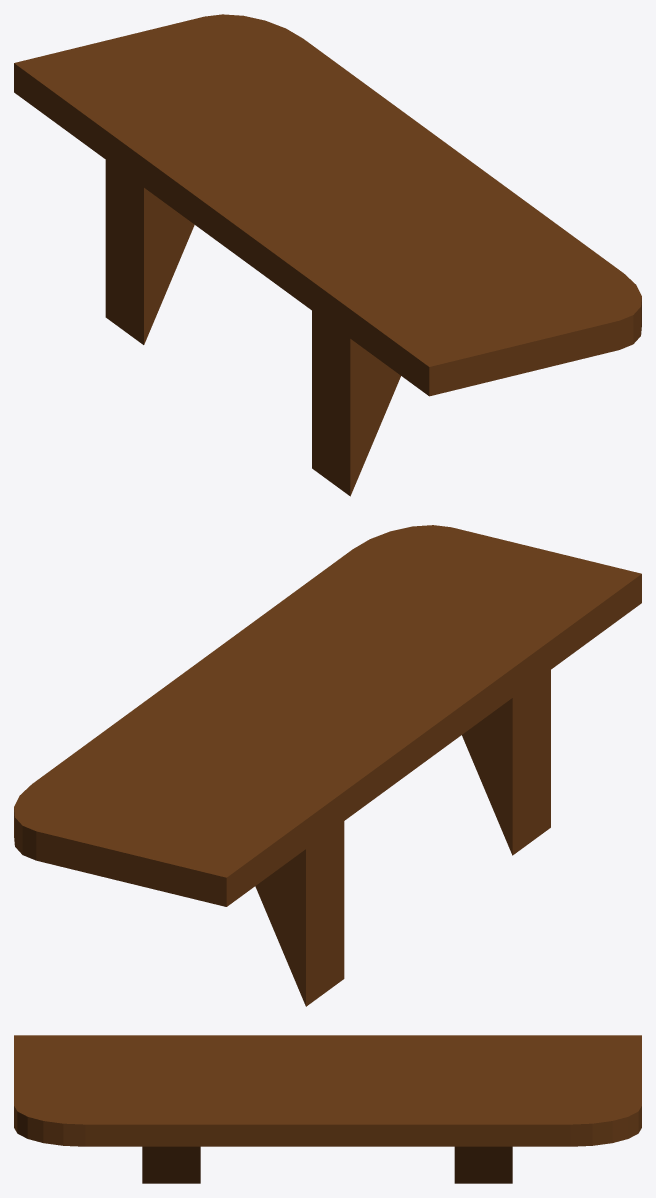
Rendered from Rack.fbx.
3 views of the same model, one above another, from view 1: azimuth 30°, elevation 25°; view 2: azimuth 150°, elevation 25°; view 3: azimuth 270°, elevation 25° (orthographic). The views are drawn at different scales.
Parts seen in each view (by area): view 1: Cube.001, Cube.002, Cube; view 2: Cube.001, Cube.002, Cube; view 3: Cube.001, Cube, Cube.002.
Boxes of the visible parts, box(x1,y1,x2,y2) form: Cube.001: box(14, 14, 641, 396); Cube.002: box(105, 160, 194, 344); Cube: box(312, 311, 400, 496); Cube.001: box(14, 525, 641, 906); Cube.002: box(255, 821, 344, 1006); Cube: box(462, 670, 550, 855); Cube.001: box(14, 1035, 641, 1146); Cube: box(142, 1146, 200, 1183); Cube.002: box(454, 1146, 512, 1183).
Bounding box in the file's own units: 728 × 556 × 2165.
